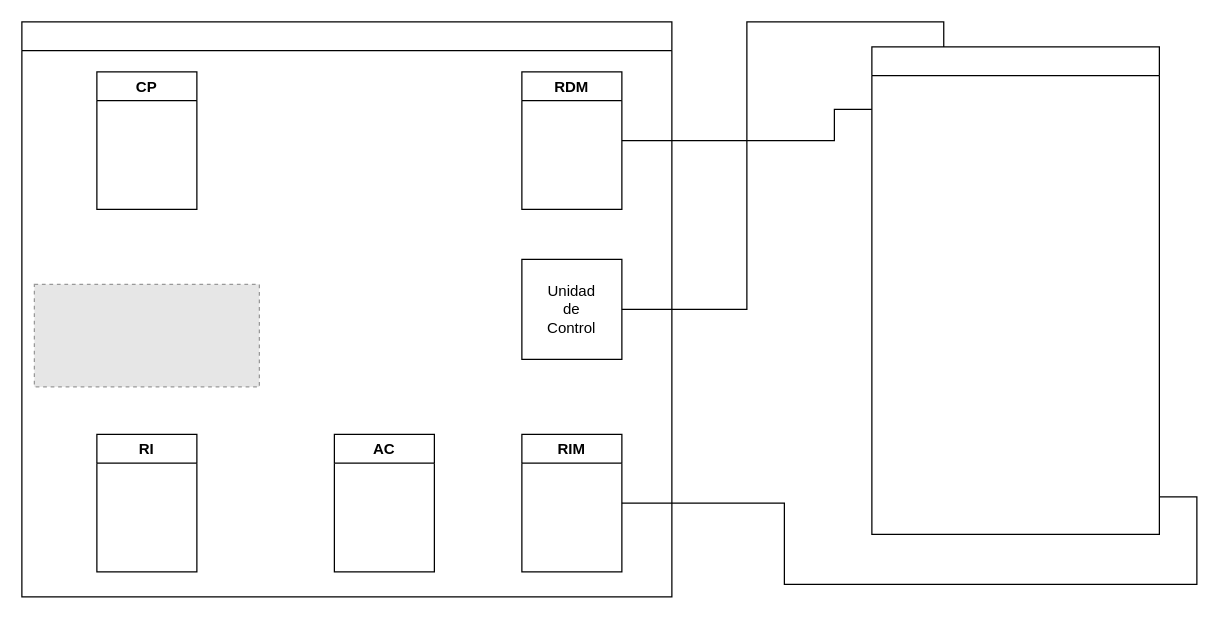
This 1220x619 diagram has some shape labels left out. Grey dashed boxes stand in for pictures. The shapes that lost their labels are listed below. From the top down, each one's box as (x1, y1, x2, y2) in pixels, then its label:
(21, 21, 672, 597): CPU
(871, 46, 1159, 534): Memoria Central
